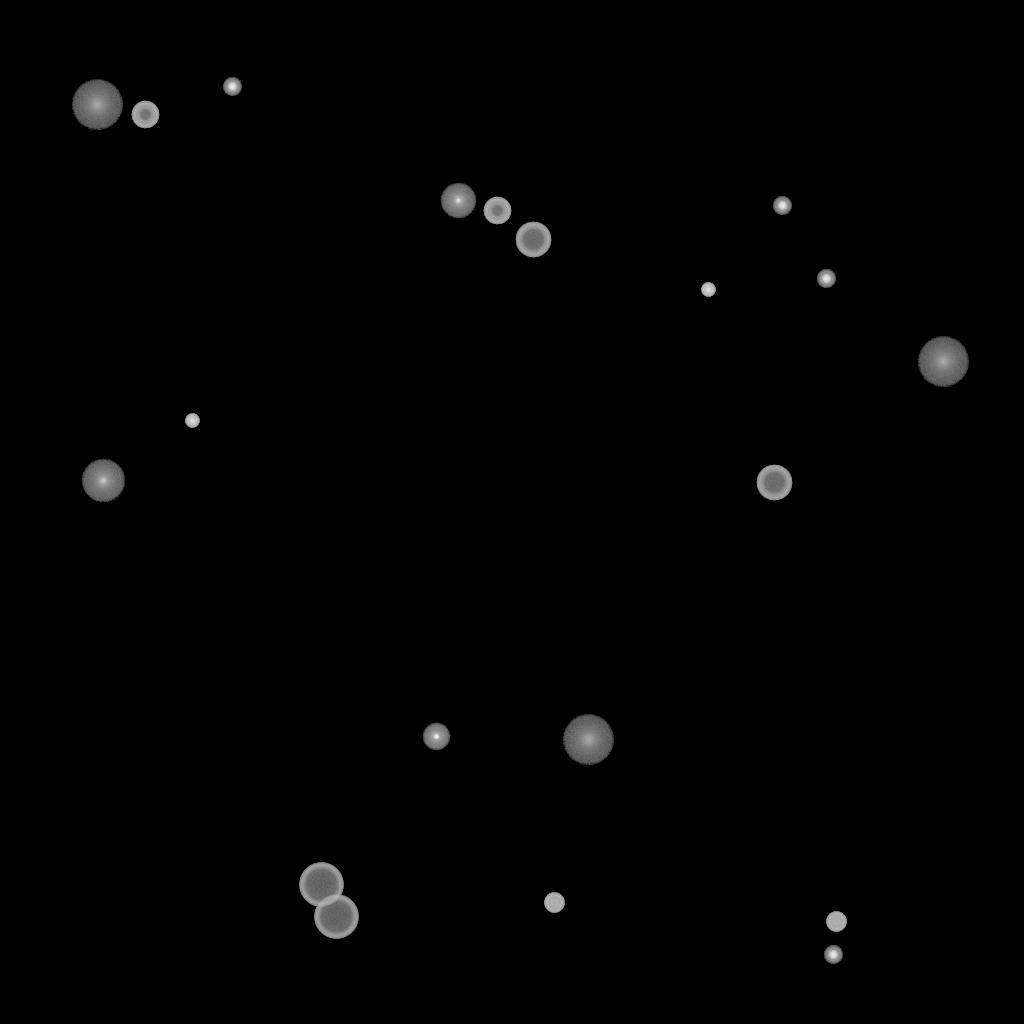depth:-10: (422, 723, 450, 751)
depth:-20: (824, 946, 842, 964), (817, 270, 835, 288), (773, 197, 791, 215), (223, 78, 241, 96)
depth:-30: (701, 283, 715, 297), (185, 414, 199, 428)
depth:-40: (544, 893, 564, 913), (826, 912, 846, 932)
depth:-50: (131, 101, 159, 129), (483, 197, 511, 225)
depth:-60: (756, 465, 792, 501), (515, 222, 551, 258)
depth:-70: (299, 863, 343, 907), (314, 895, 358, 939)
depth:0: (440, 183, 476, 219)
depth:10: (81, 459, 125, 503)
depth:20: (917, 337, 969, 387), (562, 715, 614, 765), (71, 80, 123, 130)
